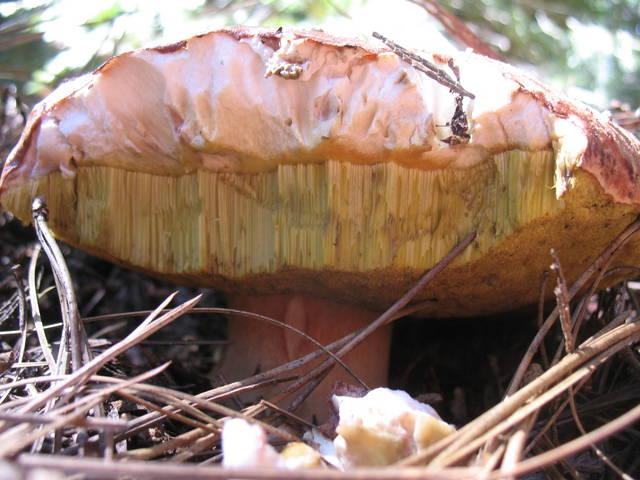Edible Mushroom: (1, 24, 638, 426)
